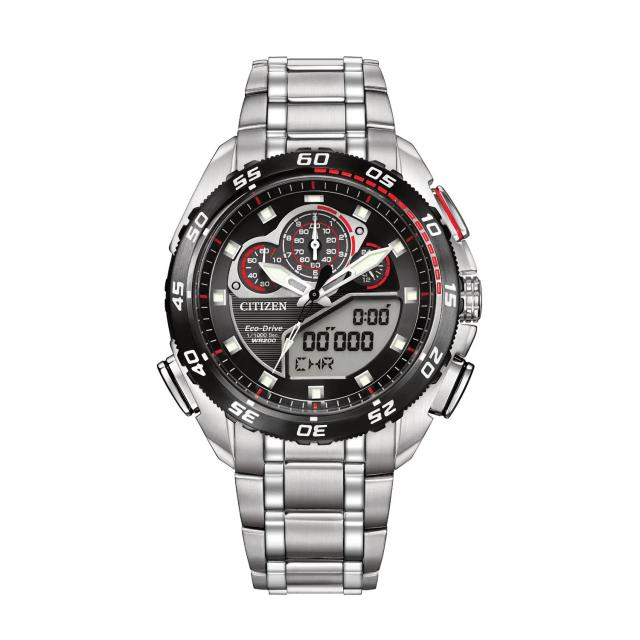watch: (155, 59, 479, 588)
